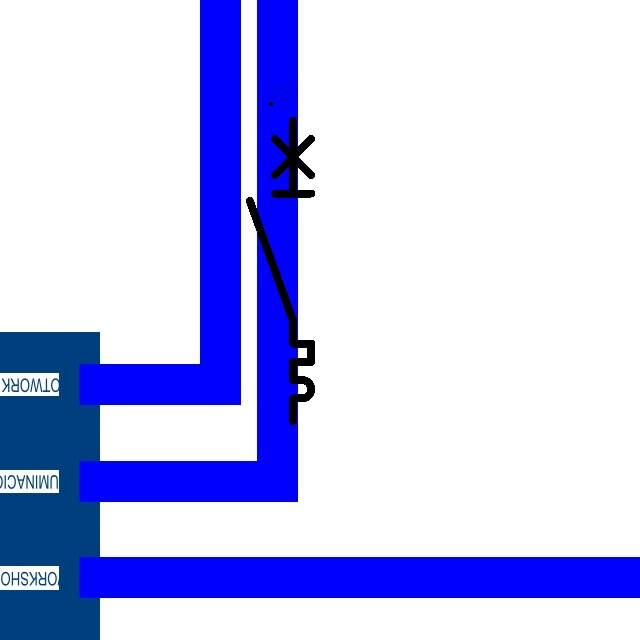interruptor_termomagnetico: (242, 112, 319, 428)
